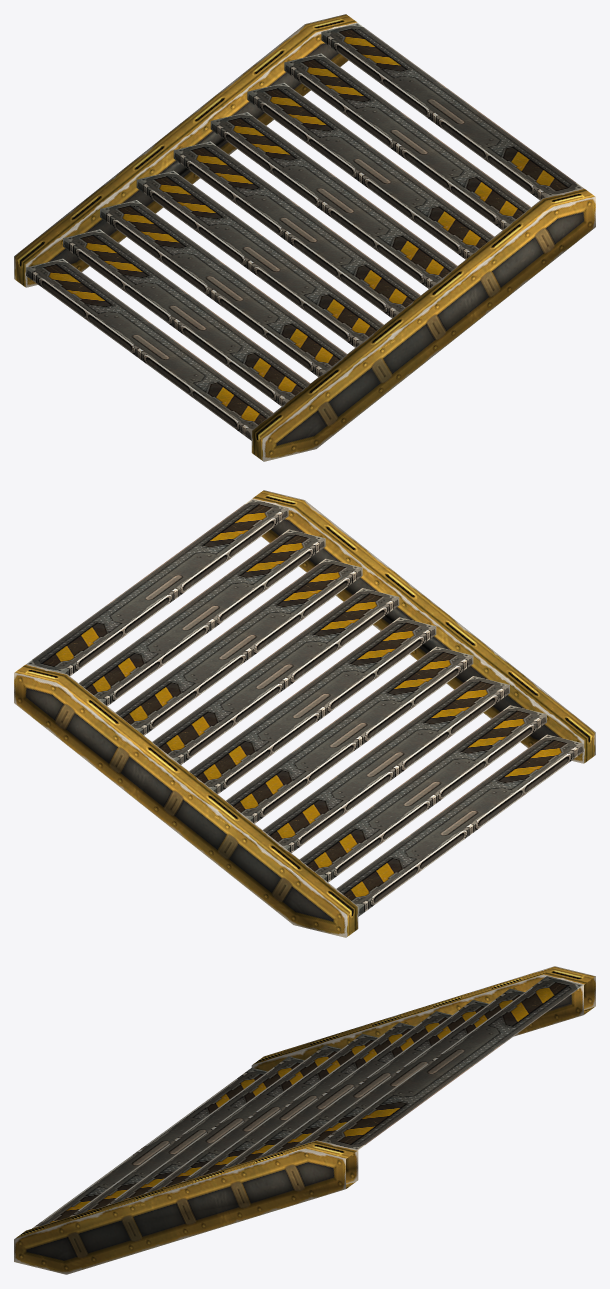
Rendered from mprw_stairs.FBX.
3 renders of one model, top to bottom at view 1: azimuth 30°, elevation 25°; view 2: azimuth 150°, elevation 25°; view 3: azimuth 330°, elevation 25°, orthographic.
Visible parts, largest first — view 1: mprw_stairs; view 2: mprw_stairs; view 3: mprw_stairs.
Boxes of the visible parts, <box> form: mprw_stairs: <box>14,14,595,461</box>; mprw_stairs: <box>14,490,595,937</box>; mprw_stairs: <box>14,966,595,1274</box>.
Size of the model in its own units: 378 by 200 by 493.
Materials: 1 (1 with a texture image).
